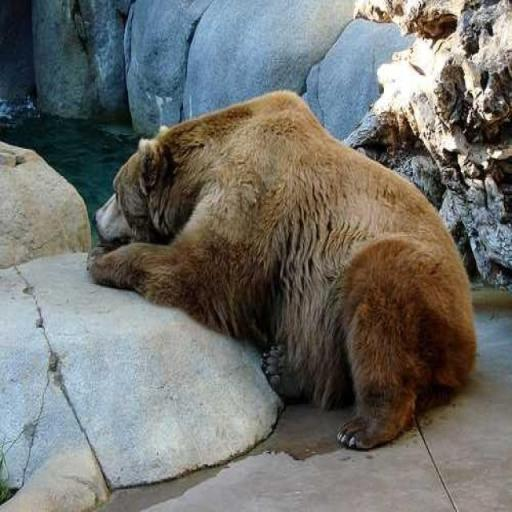Bear: (86, 88, 477, 450)
